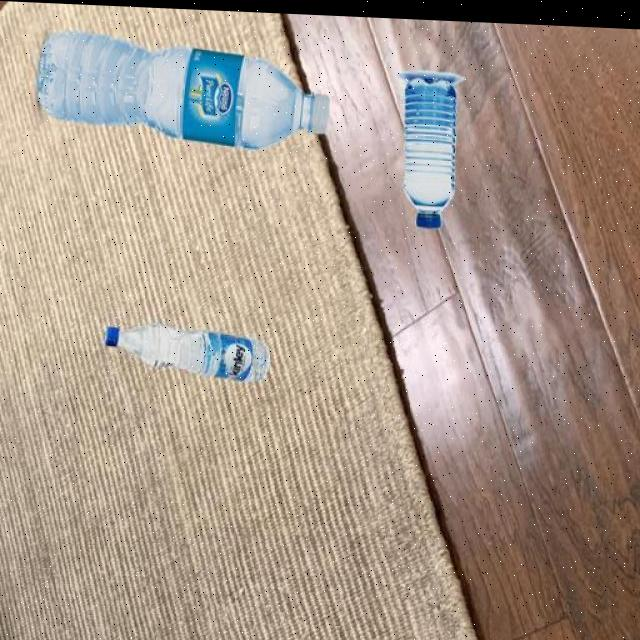bottle: (34, 27, 328, 151), (395, 65, 466, 227), (102, 320, 270, 382)
